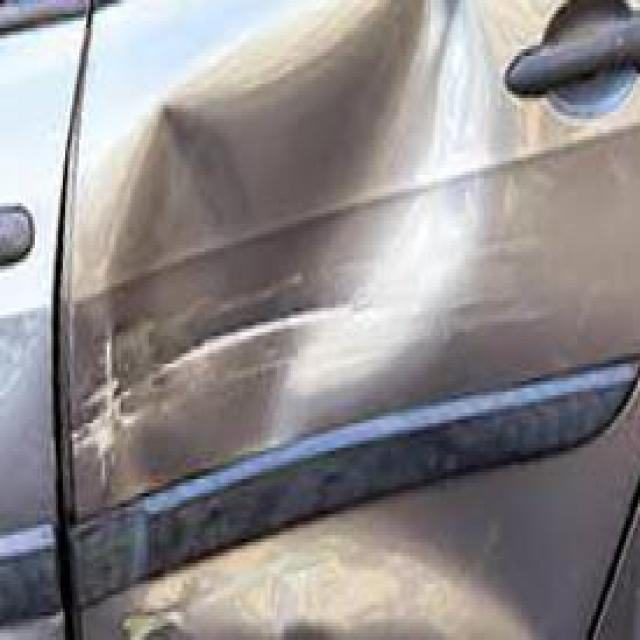dent: (93, 12, 474, 509)
